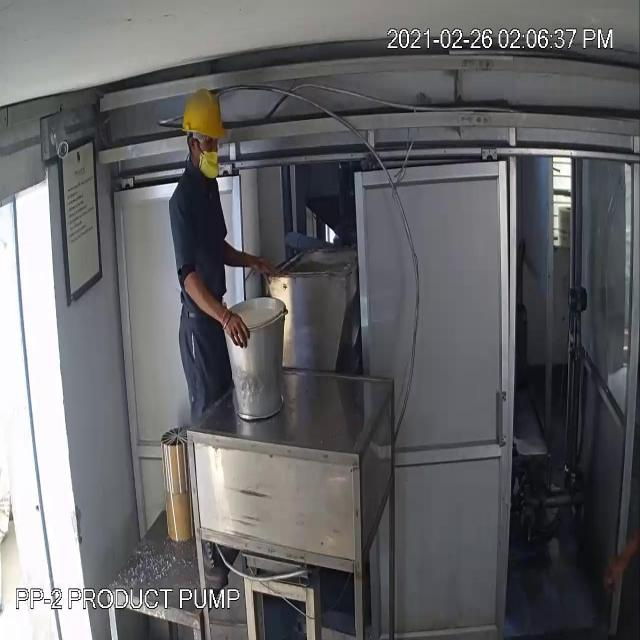hat: (171, 82, 236, 152)
